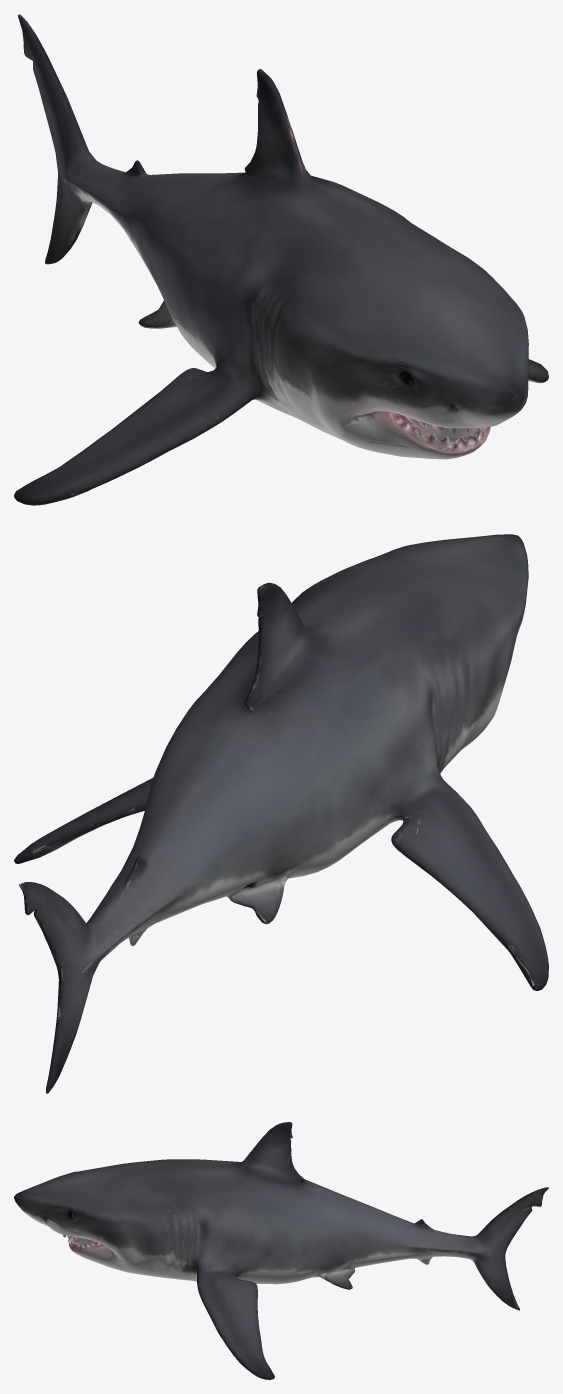
Rendered from rescue-shark.glb.
3 views of the same model, one above another, from view 1: azimuth 30°, elevation 25°; view 2: azimuth 150°, elevation 25°; view 3: azimuth 270°, elevation 25° (orthographic). The views are drawn at different scales.
Parts seen in each view (by area): view 1: Mesh_0; view 2: Mesh_0; view 3: Mesh_0.
Part boxes in pixels (x1,y1,x2,y2): Mesh_0: (14,14,548,505); Mesh_0: (14,534,548,1093); Mesh_0: (14,1122,548,1379).
Bounding box in the file's own units: 1.16 × 0.7435 × 1.9.
Materials: 1 (1 with a texture image).
